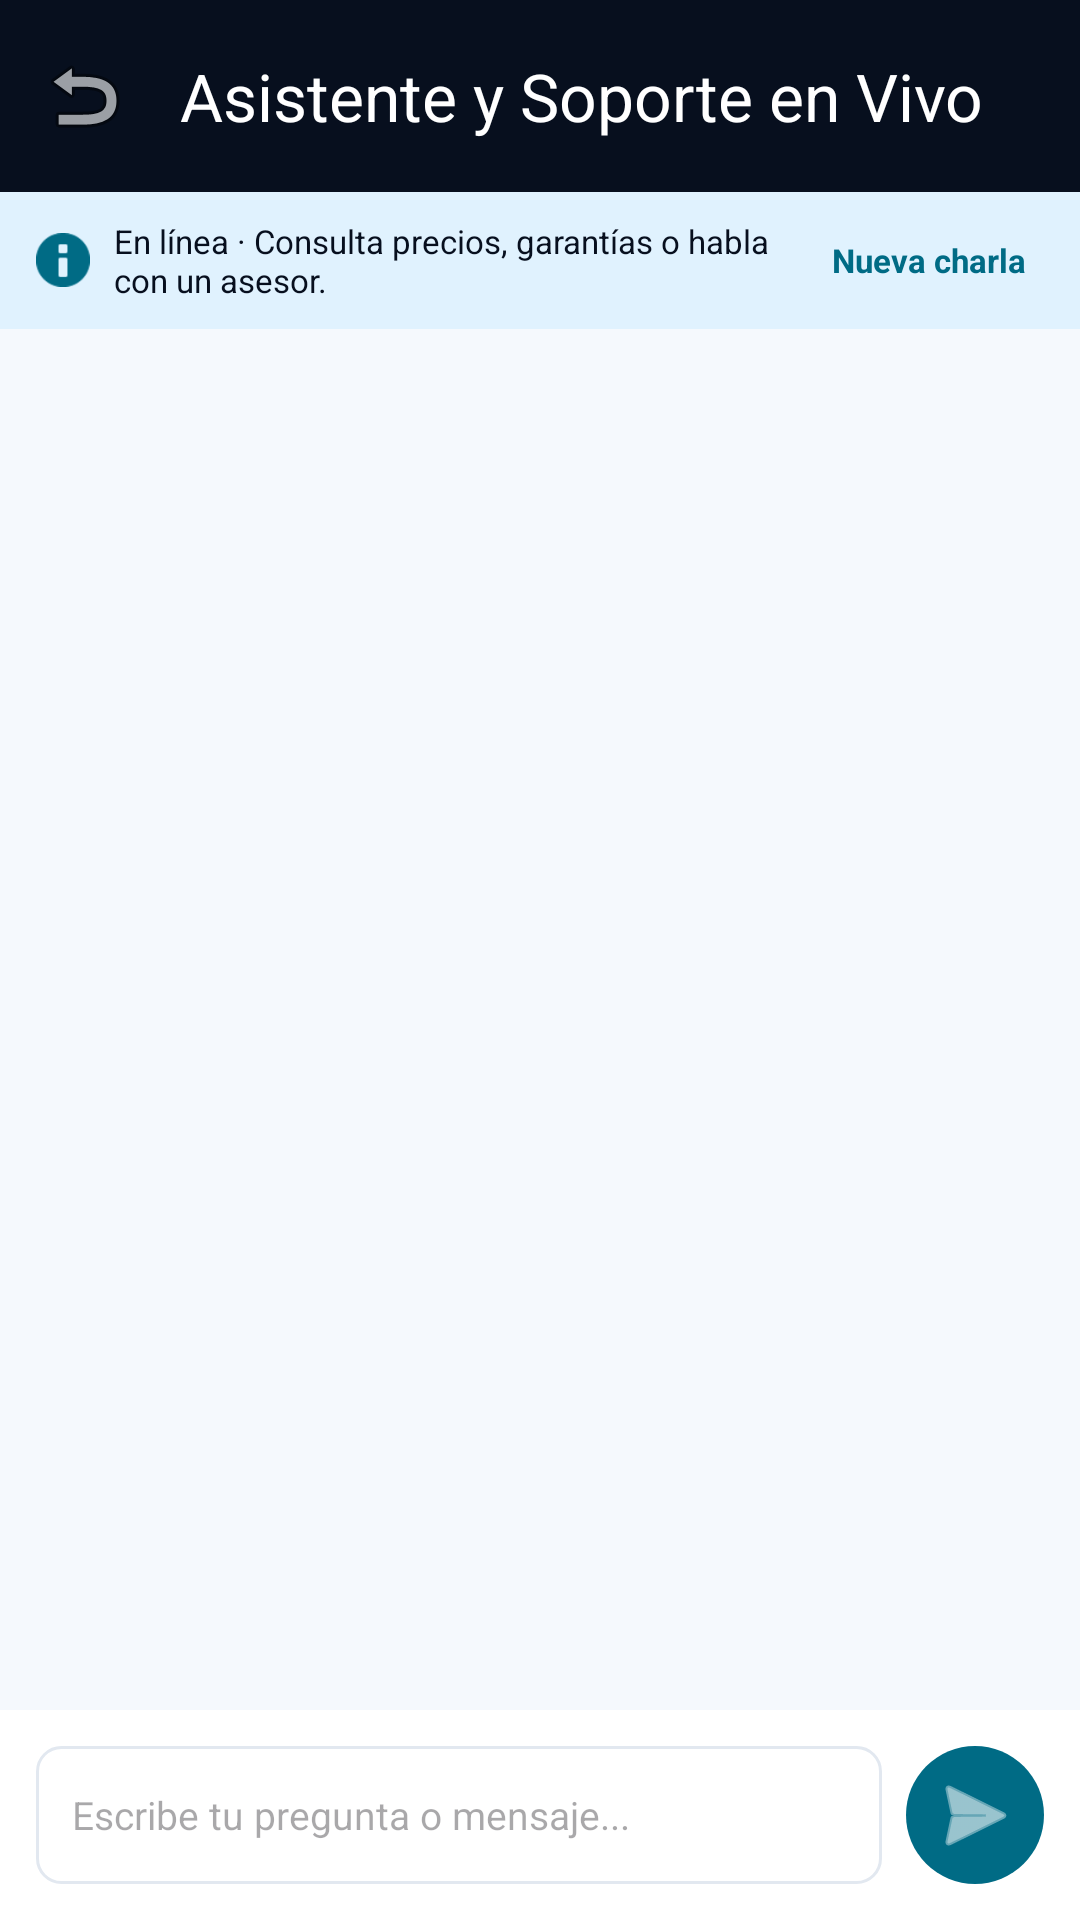

Point at icon controls on the screen. Image size 1080w x 1920h, points as [x,y].
Enviar mensaje: [975,1815]
info: [63,260]
